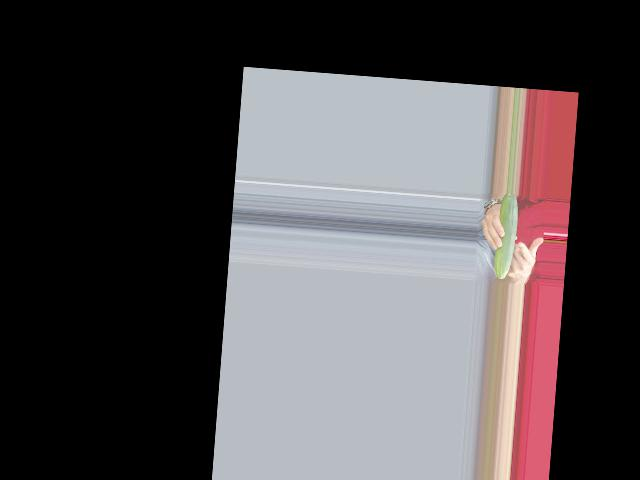cucumber: (492, 192, 519, 279)
